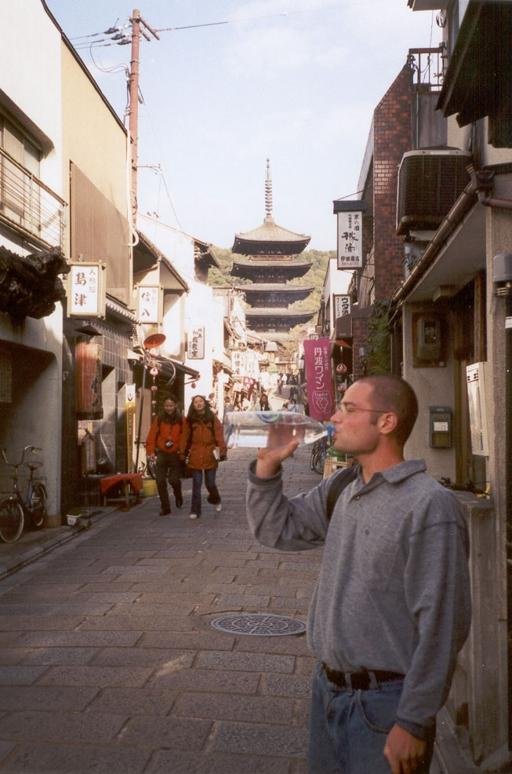non-vehicle: (0, 443, 50, 544), (308, 434, 331, 476)
